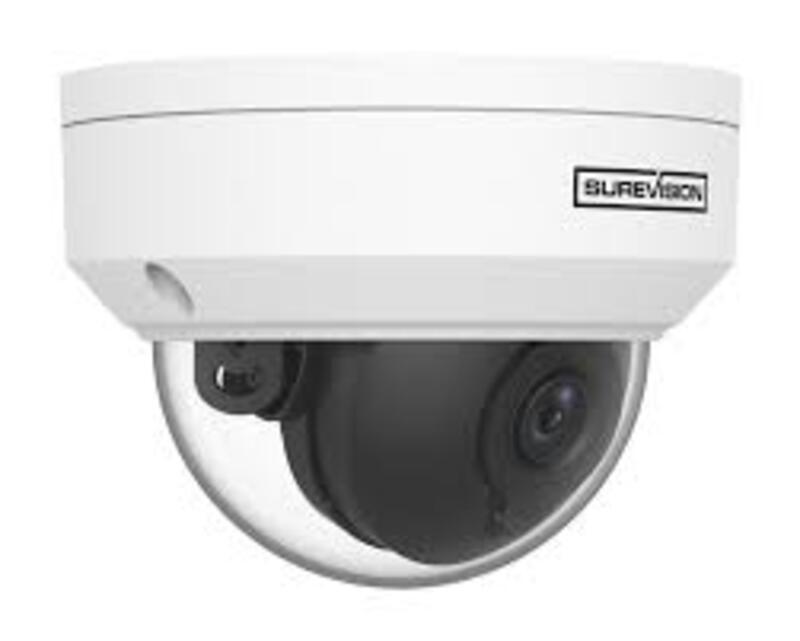dome: (52, 73, 748, 594)
